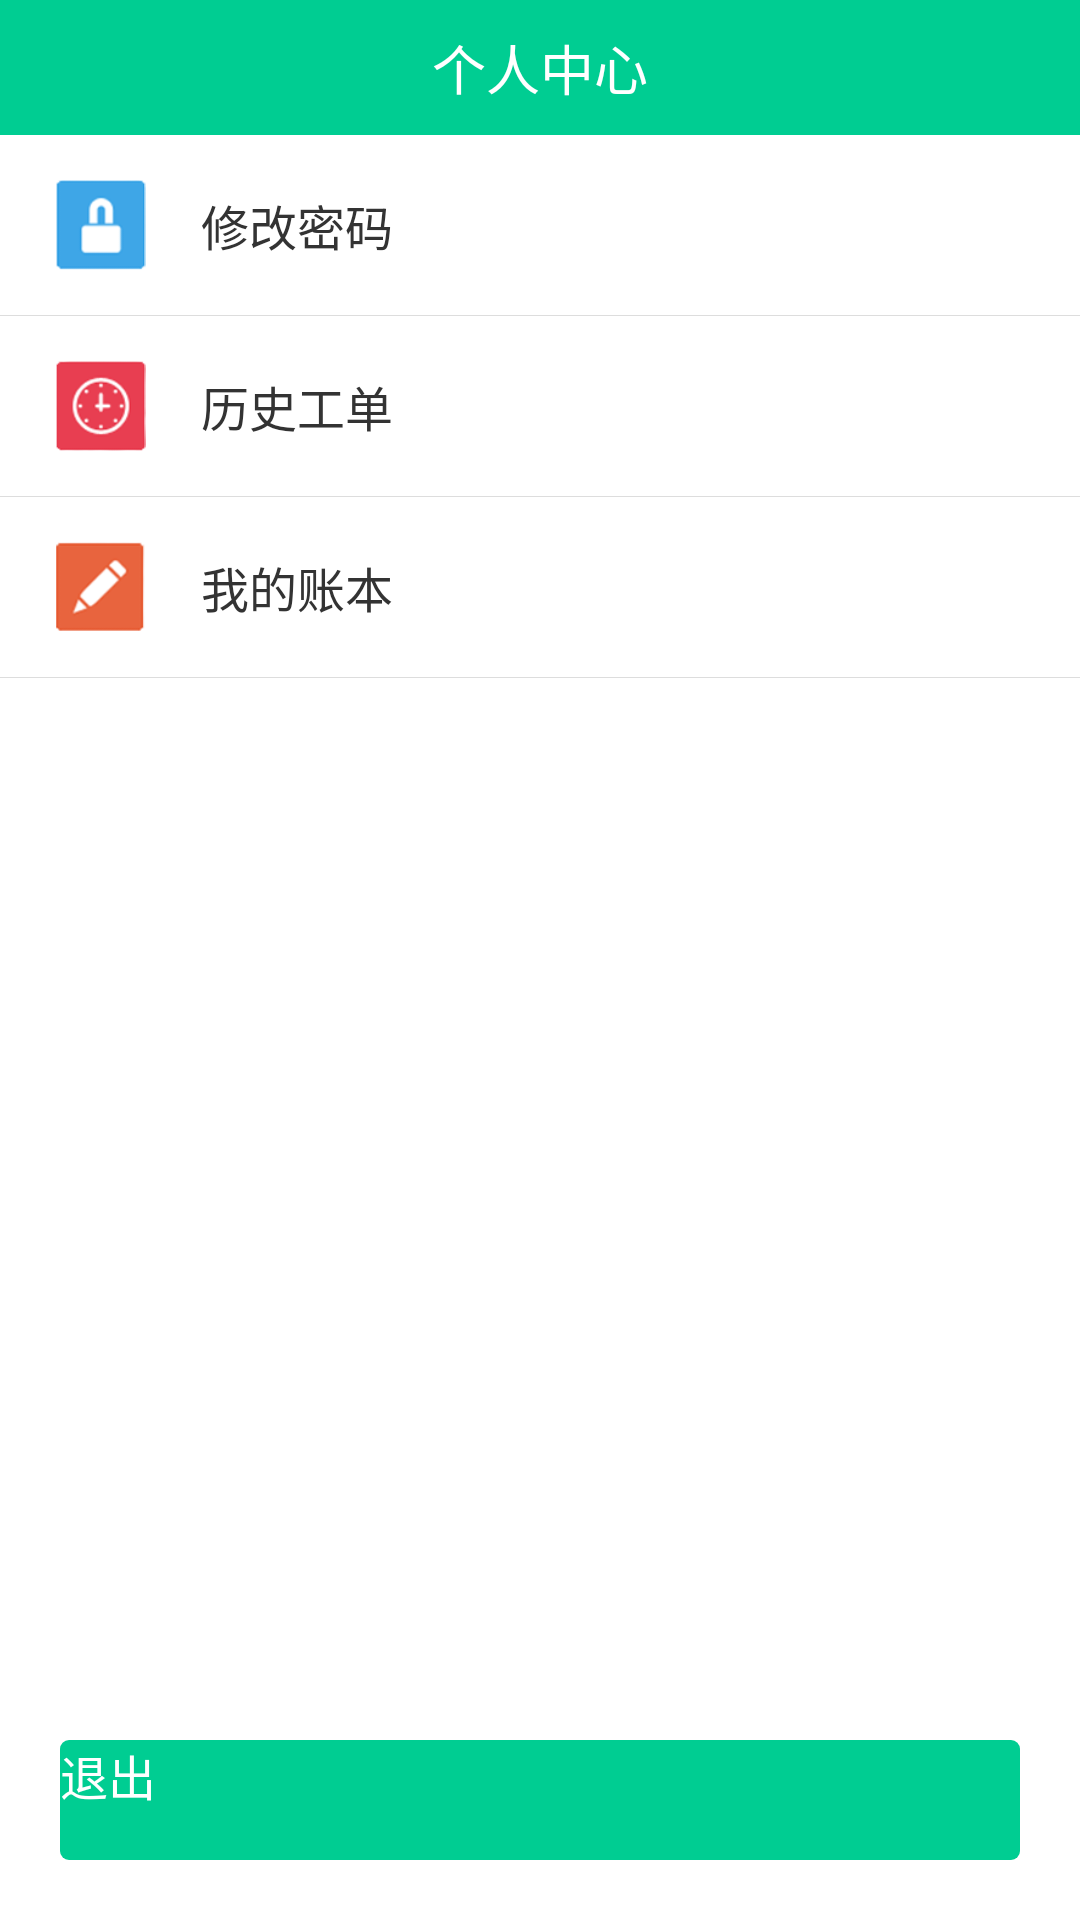

Screen size 1080×1920. Icon name, then its center in pixels as (x,y):
user clock: (101,406)
user edit: (100,587)
user key: (101,224)
